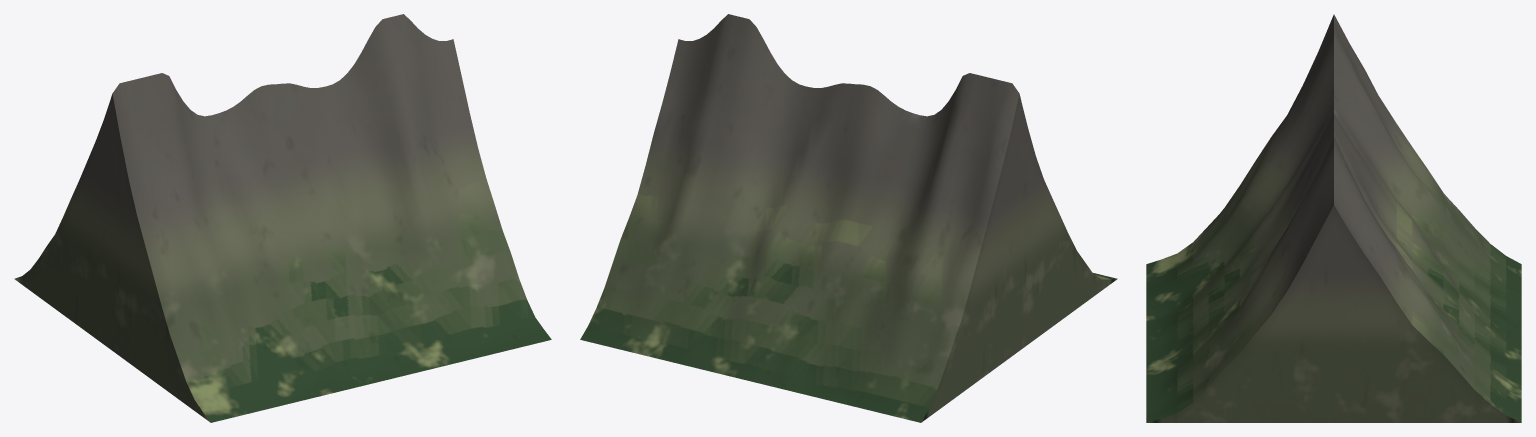
Rendered from ridge-alpine.fbx.
3 renders of one model, left to right at view 1: azimuth 30°, elevation 25°; view 2: azimuth 150°, elevation 25°; view 3: azimuth 270°, elevation 25°, orthographic. The views are drawn at different scales.
Visible parts, largest first — view 1: ridge-alpine; view 2: ridge-alpine; view 3: ridge-alpine.
Part boxes in pixels (x1,y1,x2,y2): ridge-alpine: (14, 14, 551, 422); ridge-alpine: (580, 14, 1117, 422); ridge-alpine: (1146, 14, 1521, 422).
Size of the model in its own units: 2000 by 1490 by 2000.
1 material, 1 textured.
